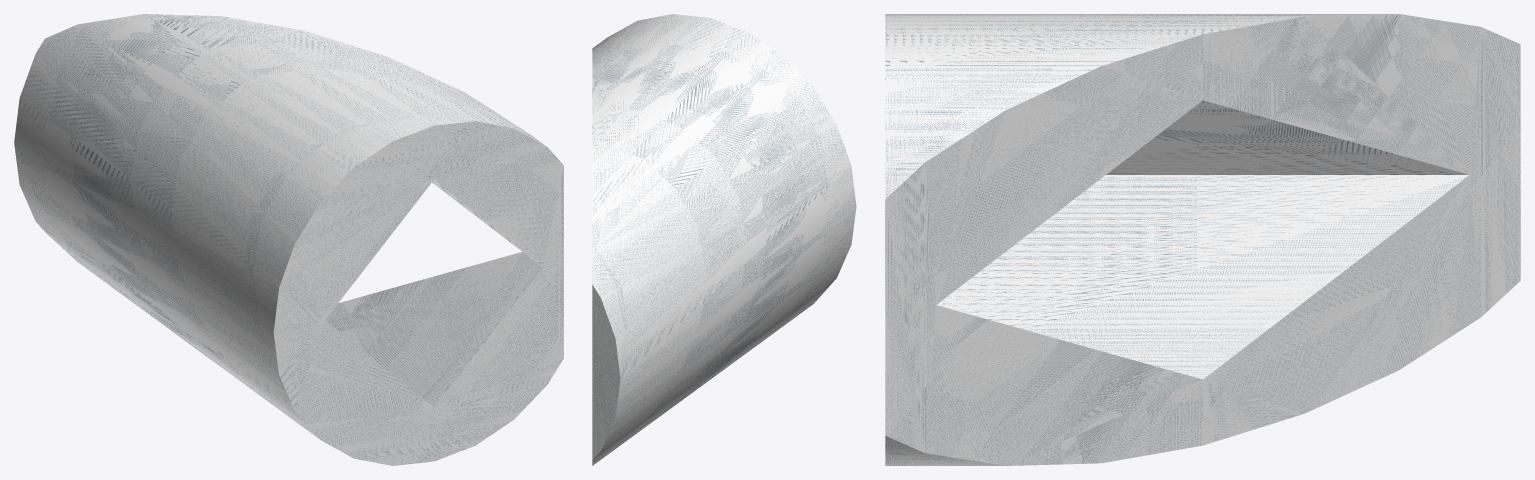
3 renders of one model, left to right at view 1: azimuth 30°, elevation 25°; view 2: azimuth 150°, elevation 25°; view 3: azimuth 270°, elevation 25°, orthographic. The views are drawn at different scales.
Visible parts, largest first — view 1: Model; view 2: Model; view 3: Model.
Part boxes in pixels (bbox=[...]): Model: bbox=[14, 14, 563, 465]; Model: bbox=[592, 14, 856, 465]; Model: bbox=[885, 14, 1520, 465].
Bounding box in the file's own units: 4.52 × 5 × 7.
